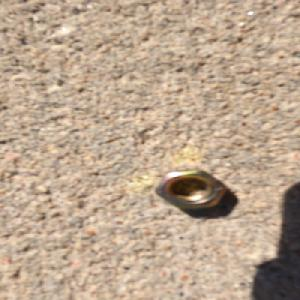Nut: (153, 168, 228, 211)
